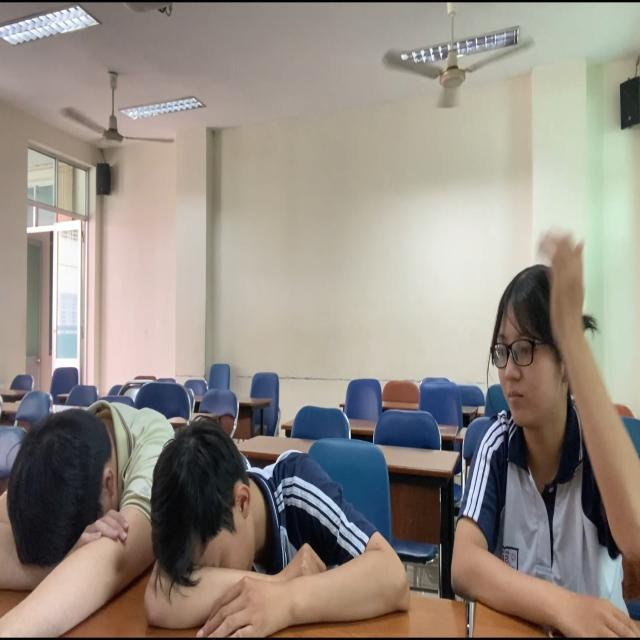raise_hand: (453, 226, 640, 640)
sleep: (150, 418, 410, 640), (1, 403, 149, 640)
